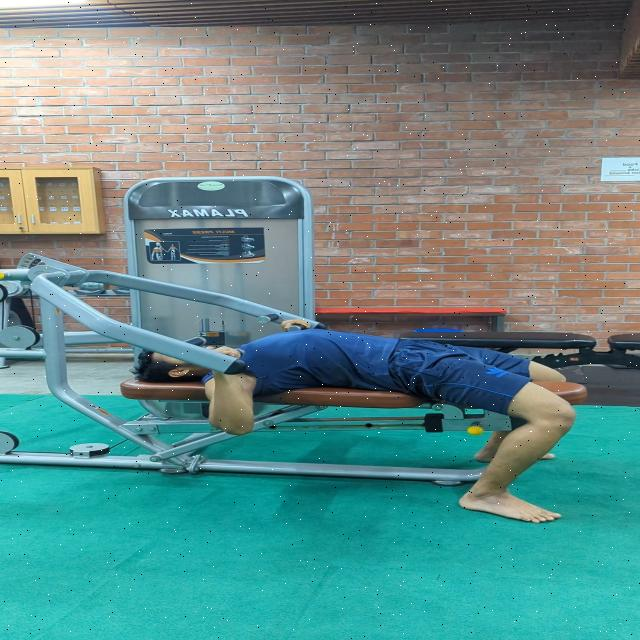Normal_BrenchPress: (99, 281, 575, 545)
